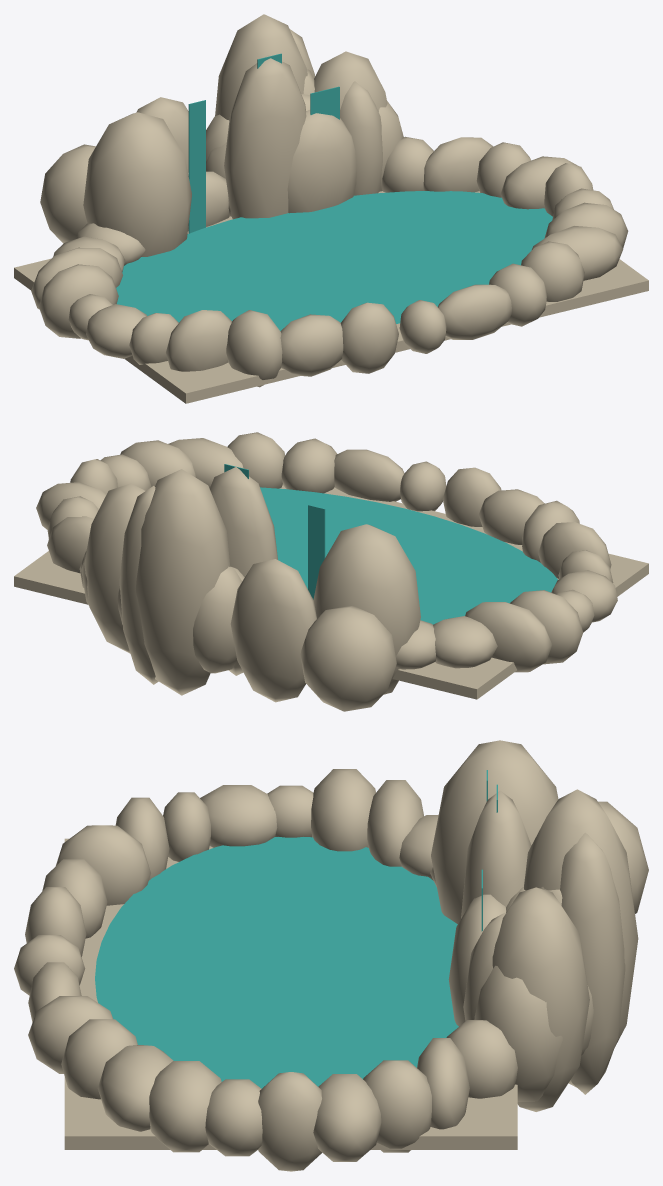
File: waterfall.glb
The picture shows the model from 3 angles, top to bottom: view 1: azimuth 30°, elevation 25°; view 2: azimuth 150°, elevation 25°; view 3: azimuth 270°, elevation 25°; orthographic projection. The views are drawn at different scales.
Parts seen in each view (by area): view 1: sandstone, water; view 2: sandstone, water; view 3: sandstone, water.
Part boxes in pixels (x1,y1,x2,y2): sandstone: (14, 14, 648, 403); water: (116, 53, 552, 330); sandstone: (14, 432, 648, 711); water: (224, 464, 557, 624); sandstone: (14, 740, 648, 1171); water: (95, 770, 497, 1088).
Bounding box in the file's own units: 16.27 × 6.55 × 12.62.
